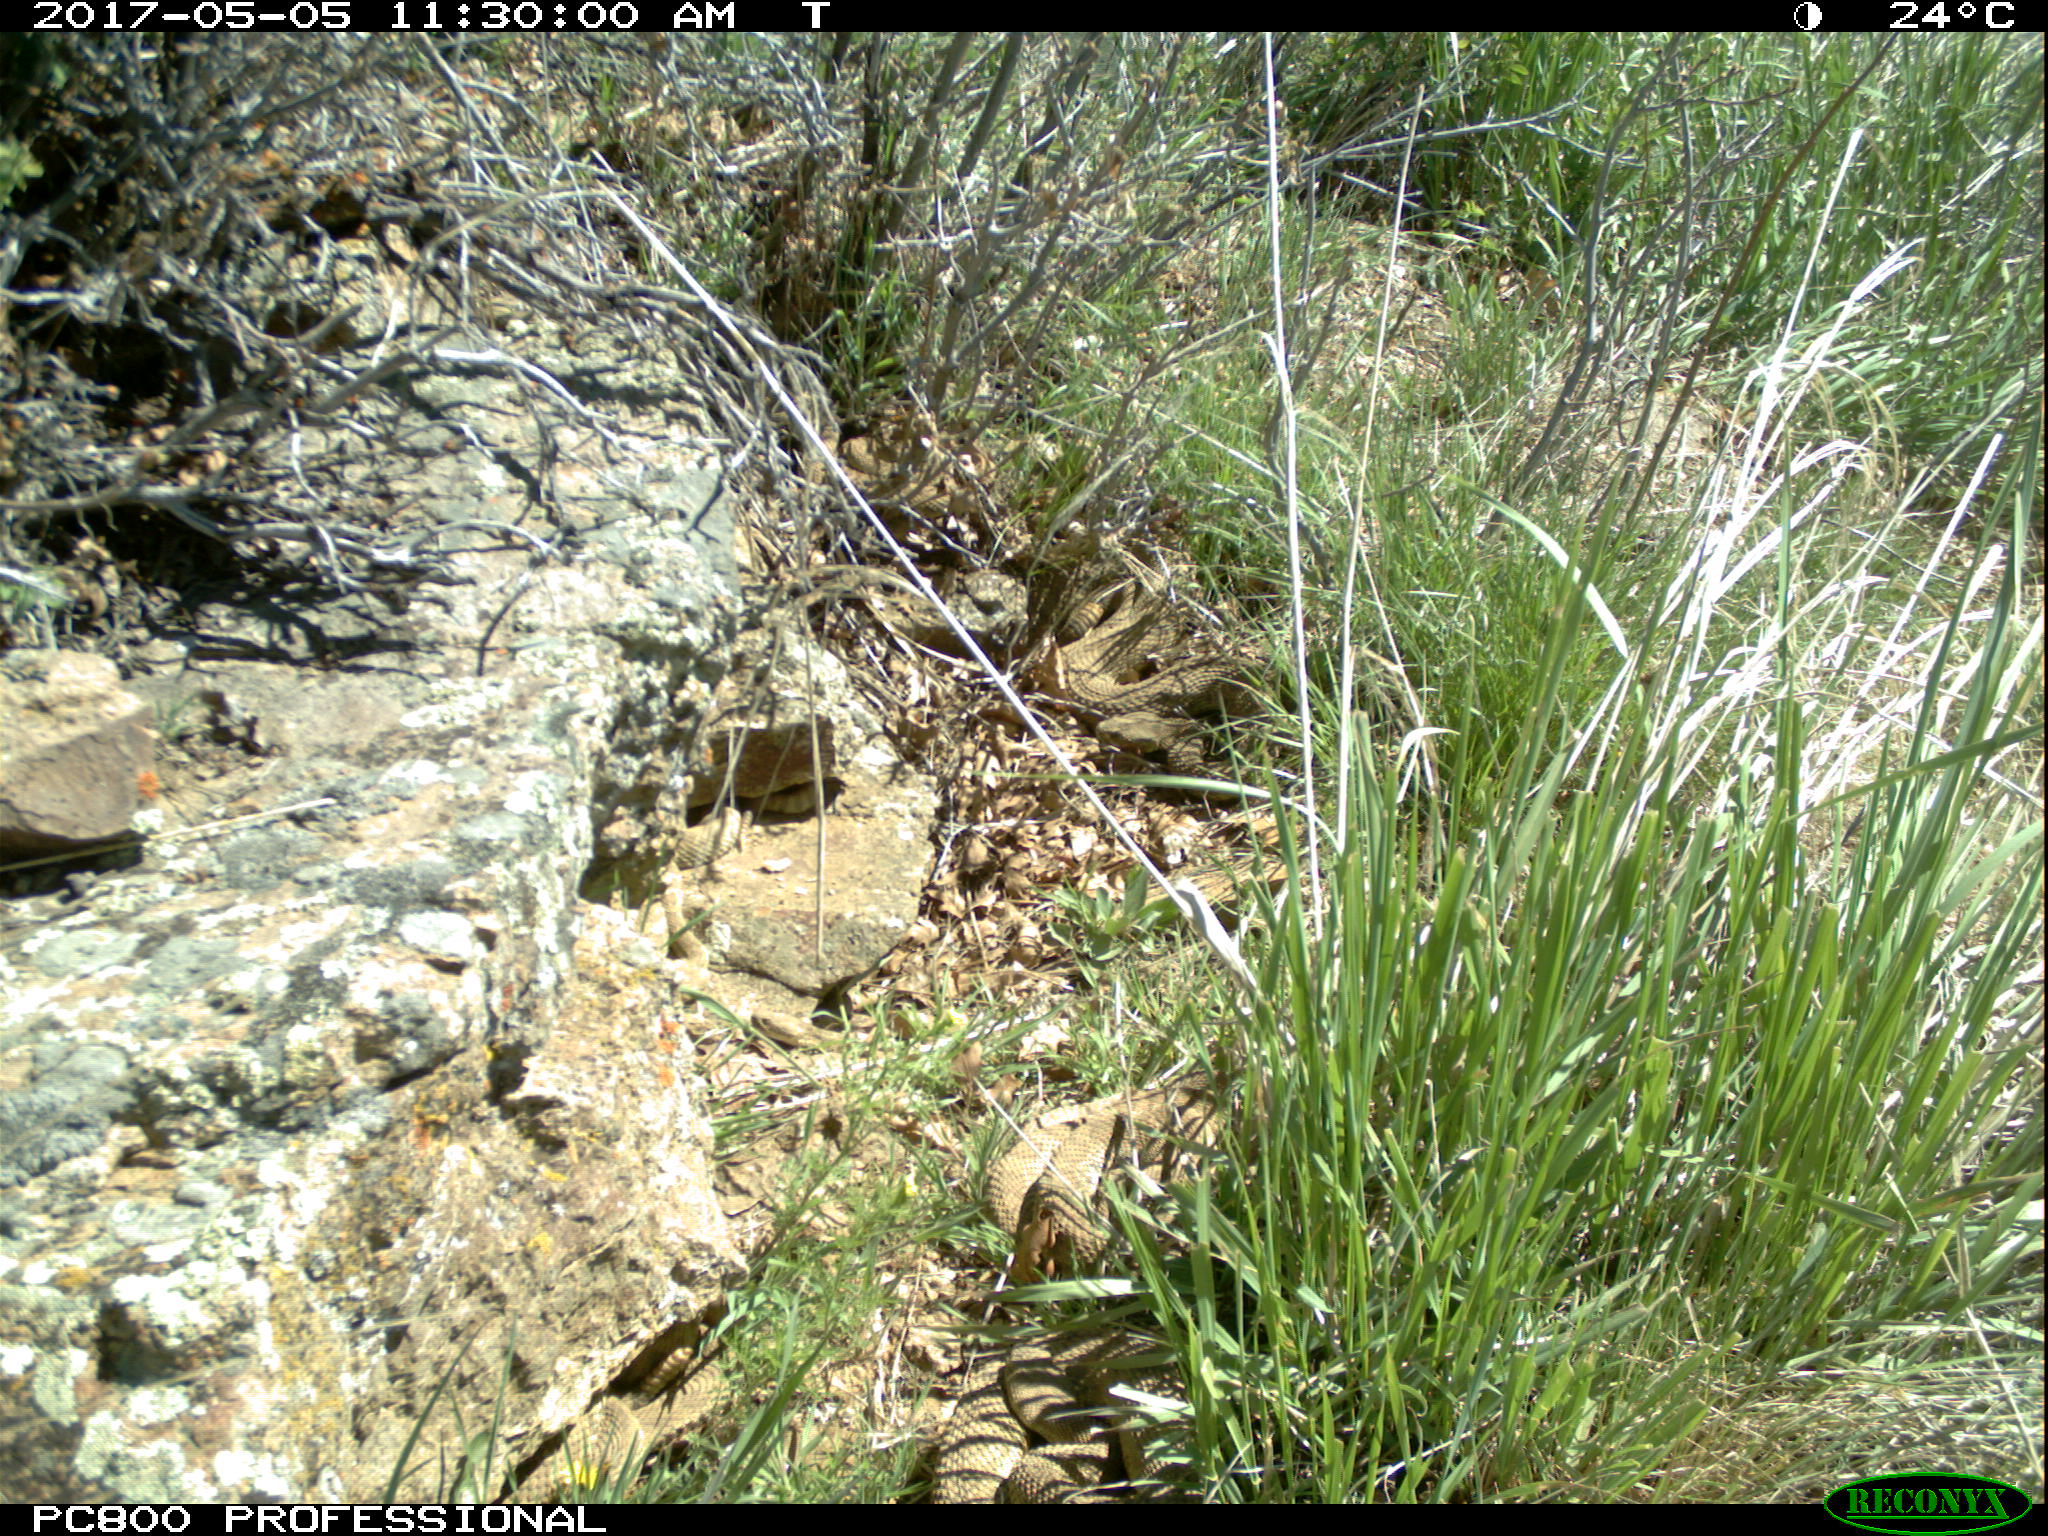snake: (989, 1076, 1248, 1265), (1050, 561, 1272, 779), (937, 1321, 1201, 1499), (503, 1363, 735, 1501), (819, 416, 959, 495), (681, 803, 748, 874)
